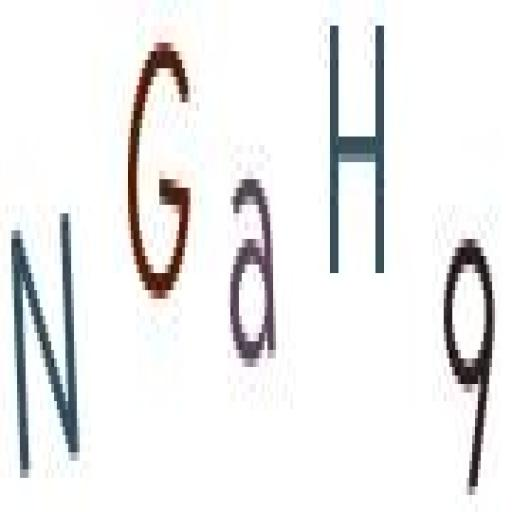9: (442, 219, 504, 512)
G: (122, 23, 196, 327)
H: (323, 4, 390, 292)
N: (8, 188, 85, 498)
a: (223, 156, 282, 383)
